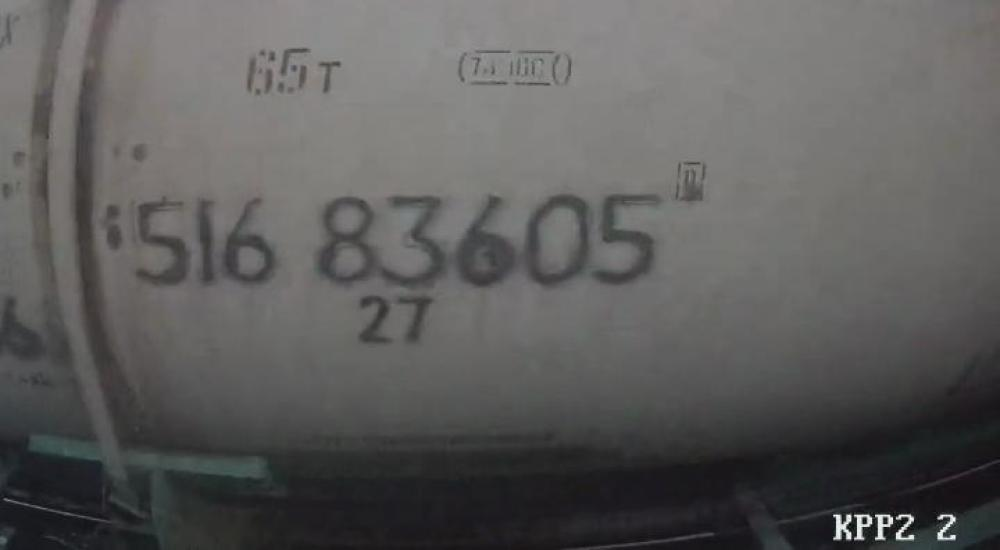Wagon-number: (136, 188, 666, 291)
